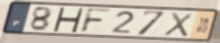2: (110, 10, 137, 35)
7: (137, 9, 167, 37)
8: (28, 6, 55, 32)
F: (78, 7, 114, 35)
H: (51, 6, 86, 34)
X: (162, 11, 195, 38)
